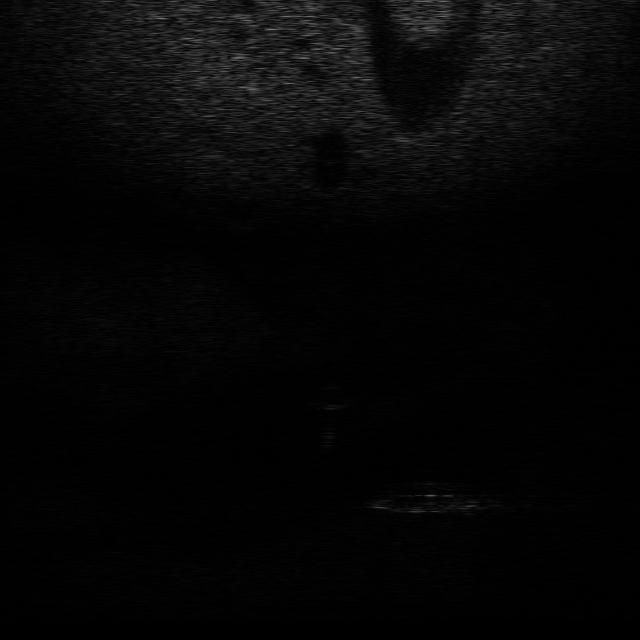ball: (304, 382, 358, 413)
tyre: (363, 489, 505, 516)
